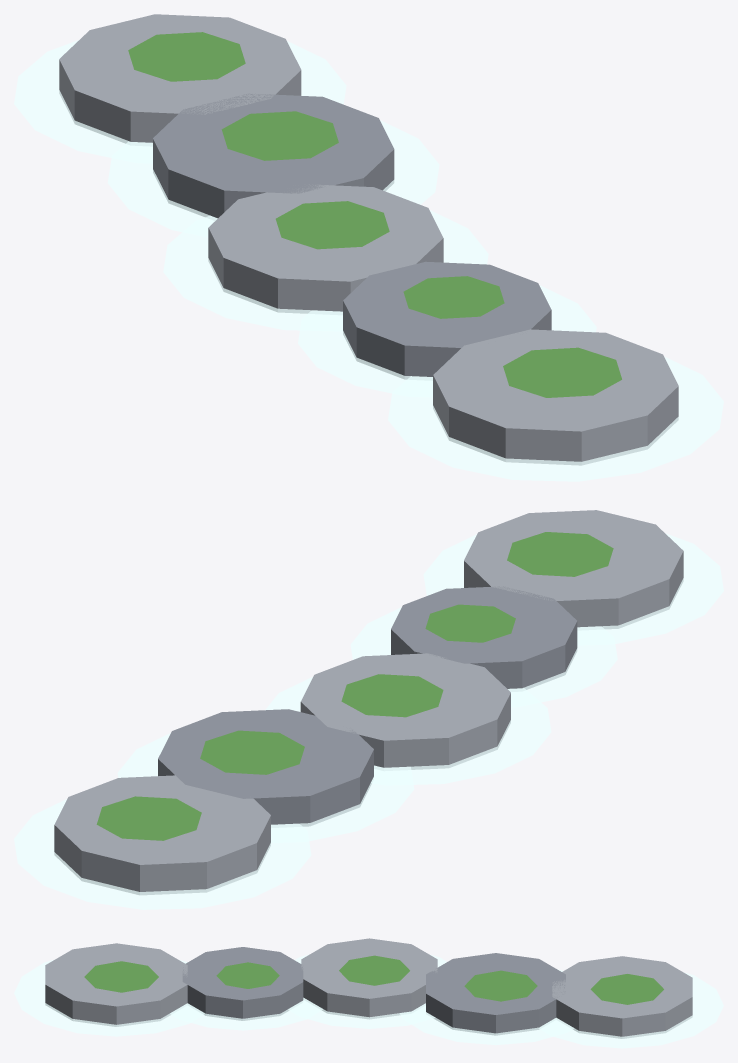
Rendered from xy_isle_steppingstones.glb.
3 views of the same model, one above another, from view 1: azimuth 30°, elevation 25°; view 2: azimuth 150°, elevation 25°; view 3: azimuth 270°, elevation 25° (orthographic). The views are drawn at different scales.
Parts seen in each view (by area): view 1: SteppingStones; view 2: SteppingStones; view 3: SteppingStones.
Part boxes in pixels (bbox=[...]): SteppingStones: bbox=[14, 14, 723, 481]; SteppingStones: bbox=[14, 510, 723, 909]; SteppingStones: bbox=[14, 938, 723, 1048].
Size of the model in its own units: 1.94 by 0.19 by 5.61.
